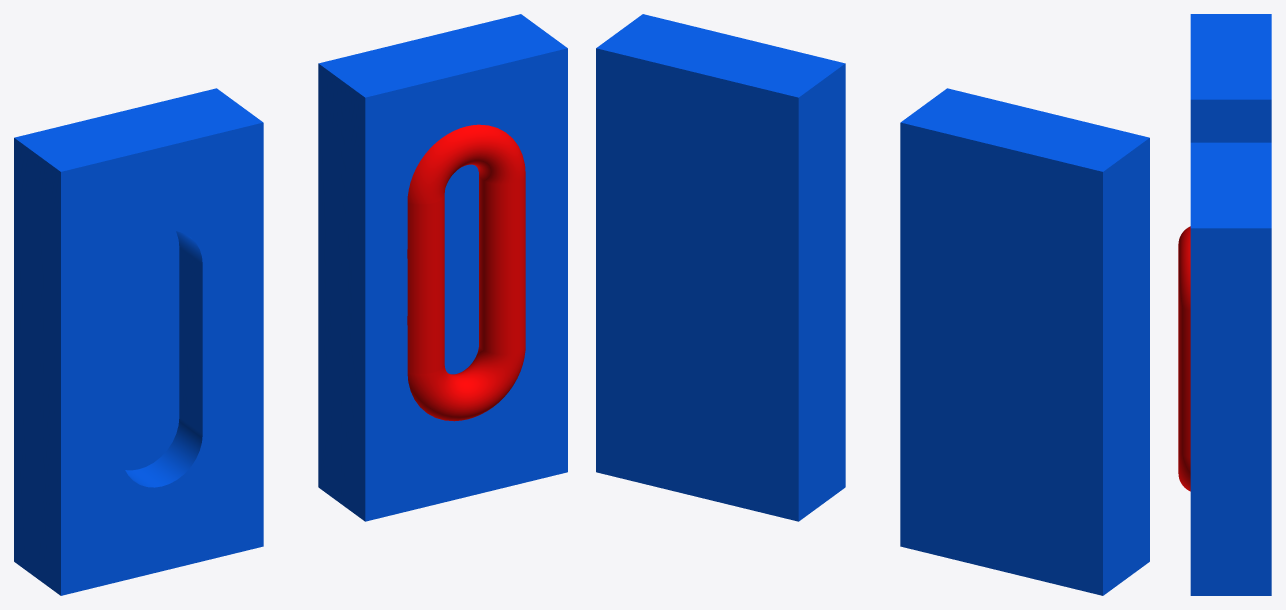
File: slot joint NEW v1.fbx
3 views of the same model, side by side, from view 1: azimuth 30°, elevation 25°; view 2: azimuth 150°, elevation 25°; view 3: azimuth 270°, elevation 25° (orthographic). The views are drawn at different scales.
Parts seen in each view (by area): view 1: Body2, Body4, Body1, Body3, Body5, Body6; view 2: Body1, Body3, Body4, Body2; view 3: Body3, Body4, Body1, Body2, Body5.
Boxes of the visible parts, x1,y1,x2,y2 form: Body2: (37, 105, 263, 595); Body4: (342, 31, 567, 521); Body1: (14, 88, 239, 578); Body3: (318, 14, 543, 504); Body5: (407, 124, 525, 421); Body6: (407, 196, 444, 373); Body1: (900, 105, 1126, 595); Body3: (596, 31, 821, 521); Body4: (620, 14, 845, 504); Body2: (924, 88, 1149, 578); Body3: (1231, 142, 1271, 595); Body4: (1190, 142, 1230, 595); Body1: (1231, 14, 1271, 142); Body2: (1190, 14, 1230, 142); Body5: (1178, 226, 1190, 491).
Size of the model in its own units: 318 by 254 by 58.42.
